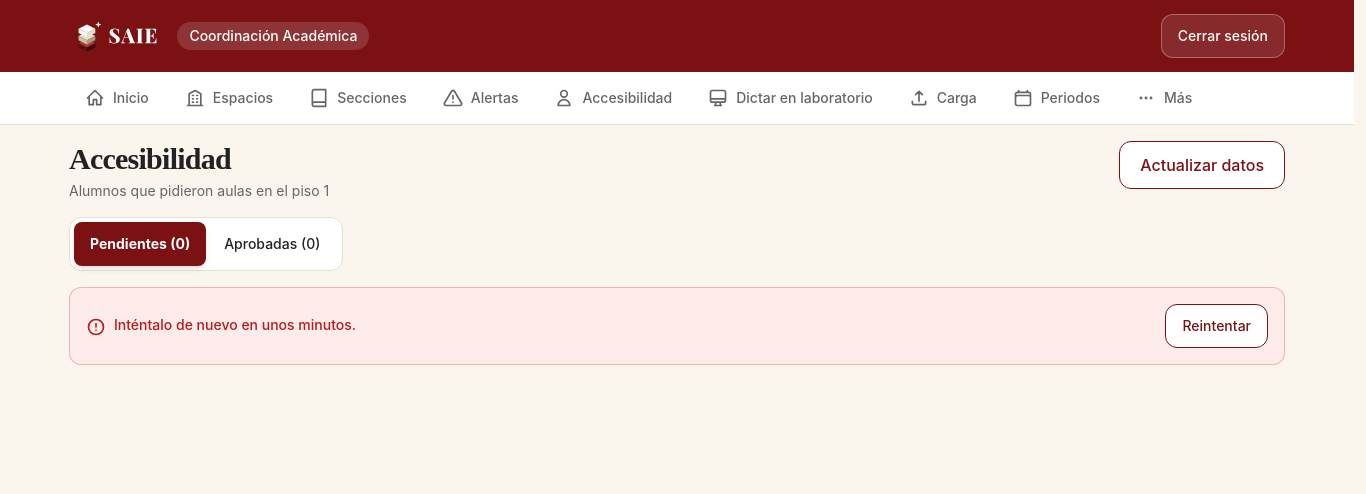
Test: AccesibilidadAdminPage (Issue 3.60) › muestra el error de carga con «Reintentar»
This screenshot has width=1366, height=494.
Click the button "Reintentar". click: (1217, 326)
box: [1166,304,1268,348]
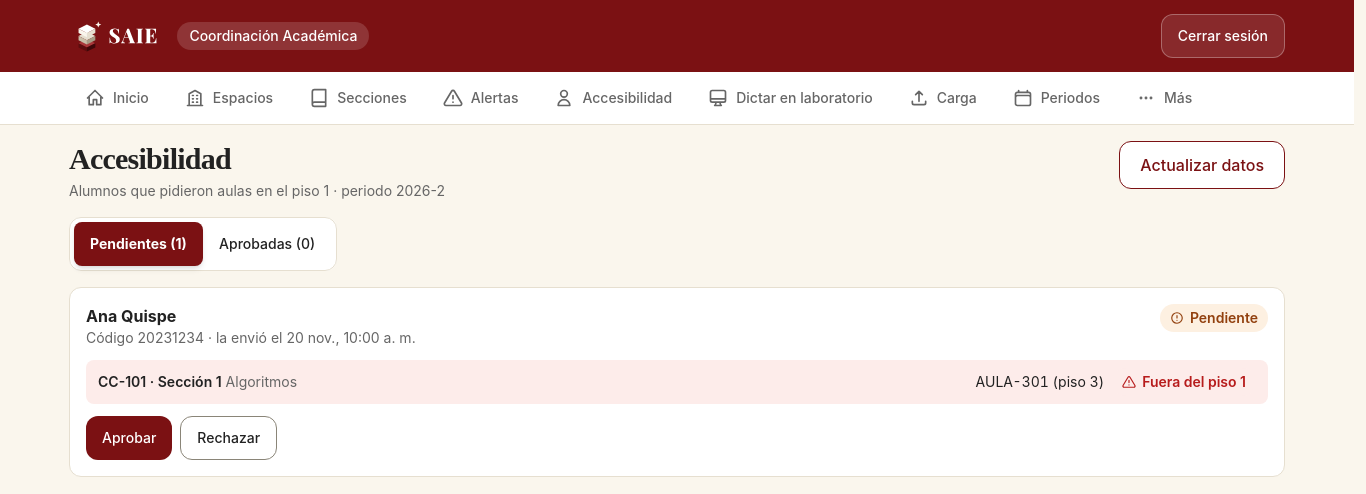
Expected: the heading "Ana Quispe" is shown, [86,306,176,326]
